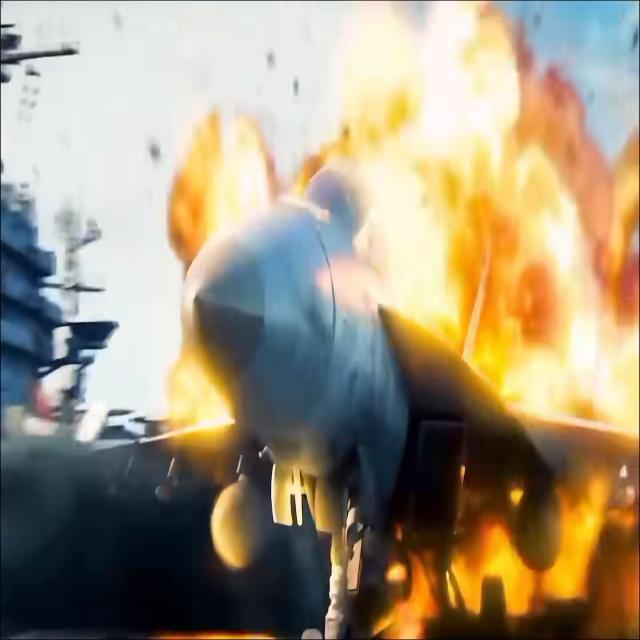fire: (136, 4, 640, 637)
